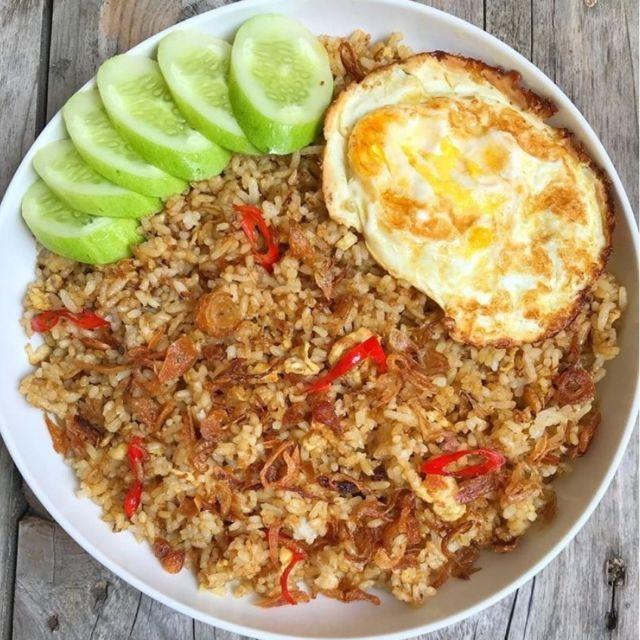Nasi Goreng: (14, 150, 598, 585)
